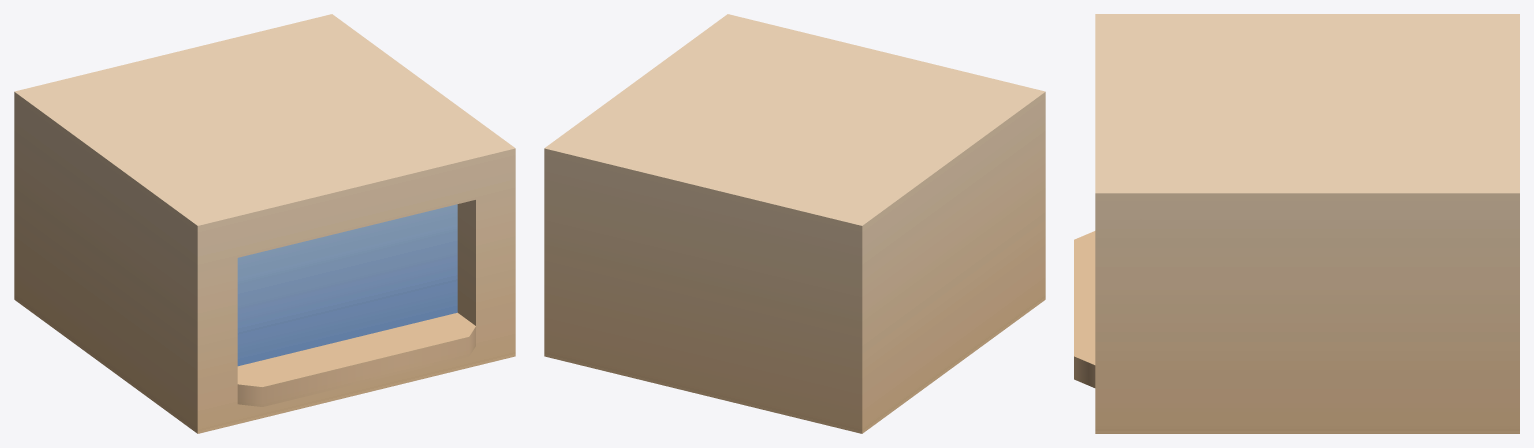
The model's file is building-window-wide-sill.glb.
The picture shows the model from 3 angles, left to right: view 1: azimuth 30°, elevation 25°; view 2: azimuth 150°, elevation 25°; view 3: azimuth 270°, elevation 25°; orthographic projection. The views are drawn at different scales.
Visible parts, largest first — view 1: building-window-wide-sill; view 2: building-window-wide-sill; view 3: building-window-wide-sill.
Part boxes in pixels (<box>): building-window-wide-sill: <box>14,14,515,433</box>; building-window-wide-sill: <box>544,14,1045,433</box>; building-window-wide-sill: <box>1074,14,1519,433</box>.
Size of the model in its own units: 1 by 0.6251 by 1.05.
Materials: 1 (1 with a texture image).
